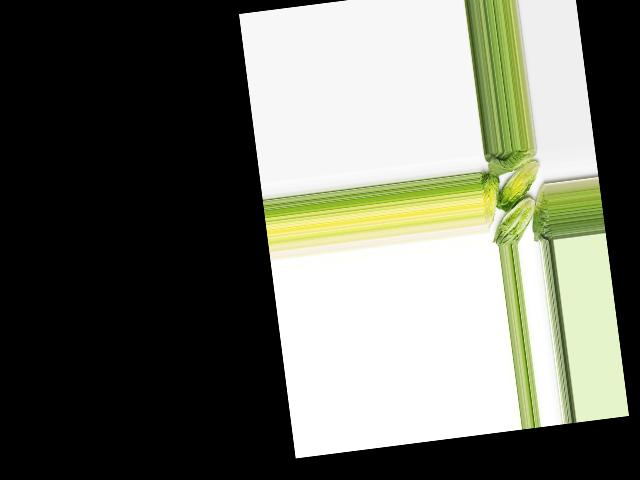lettuce: (483, 147, 538, 178)
